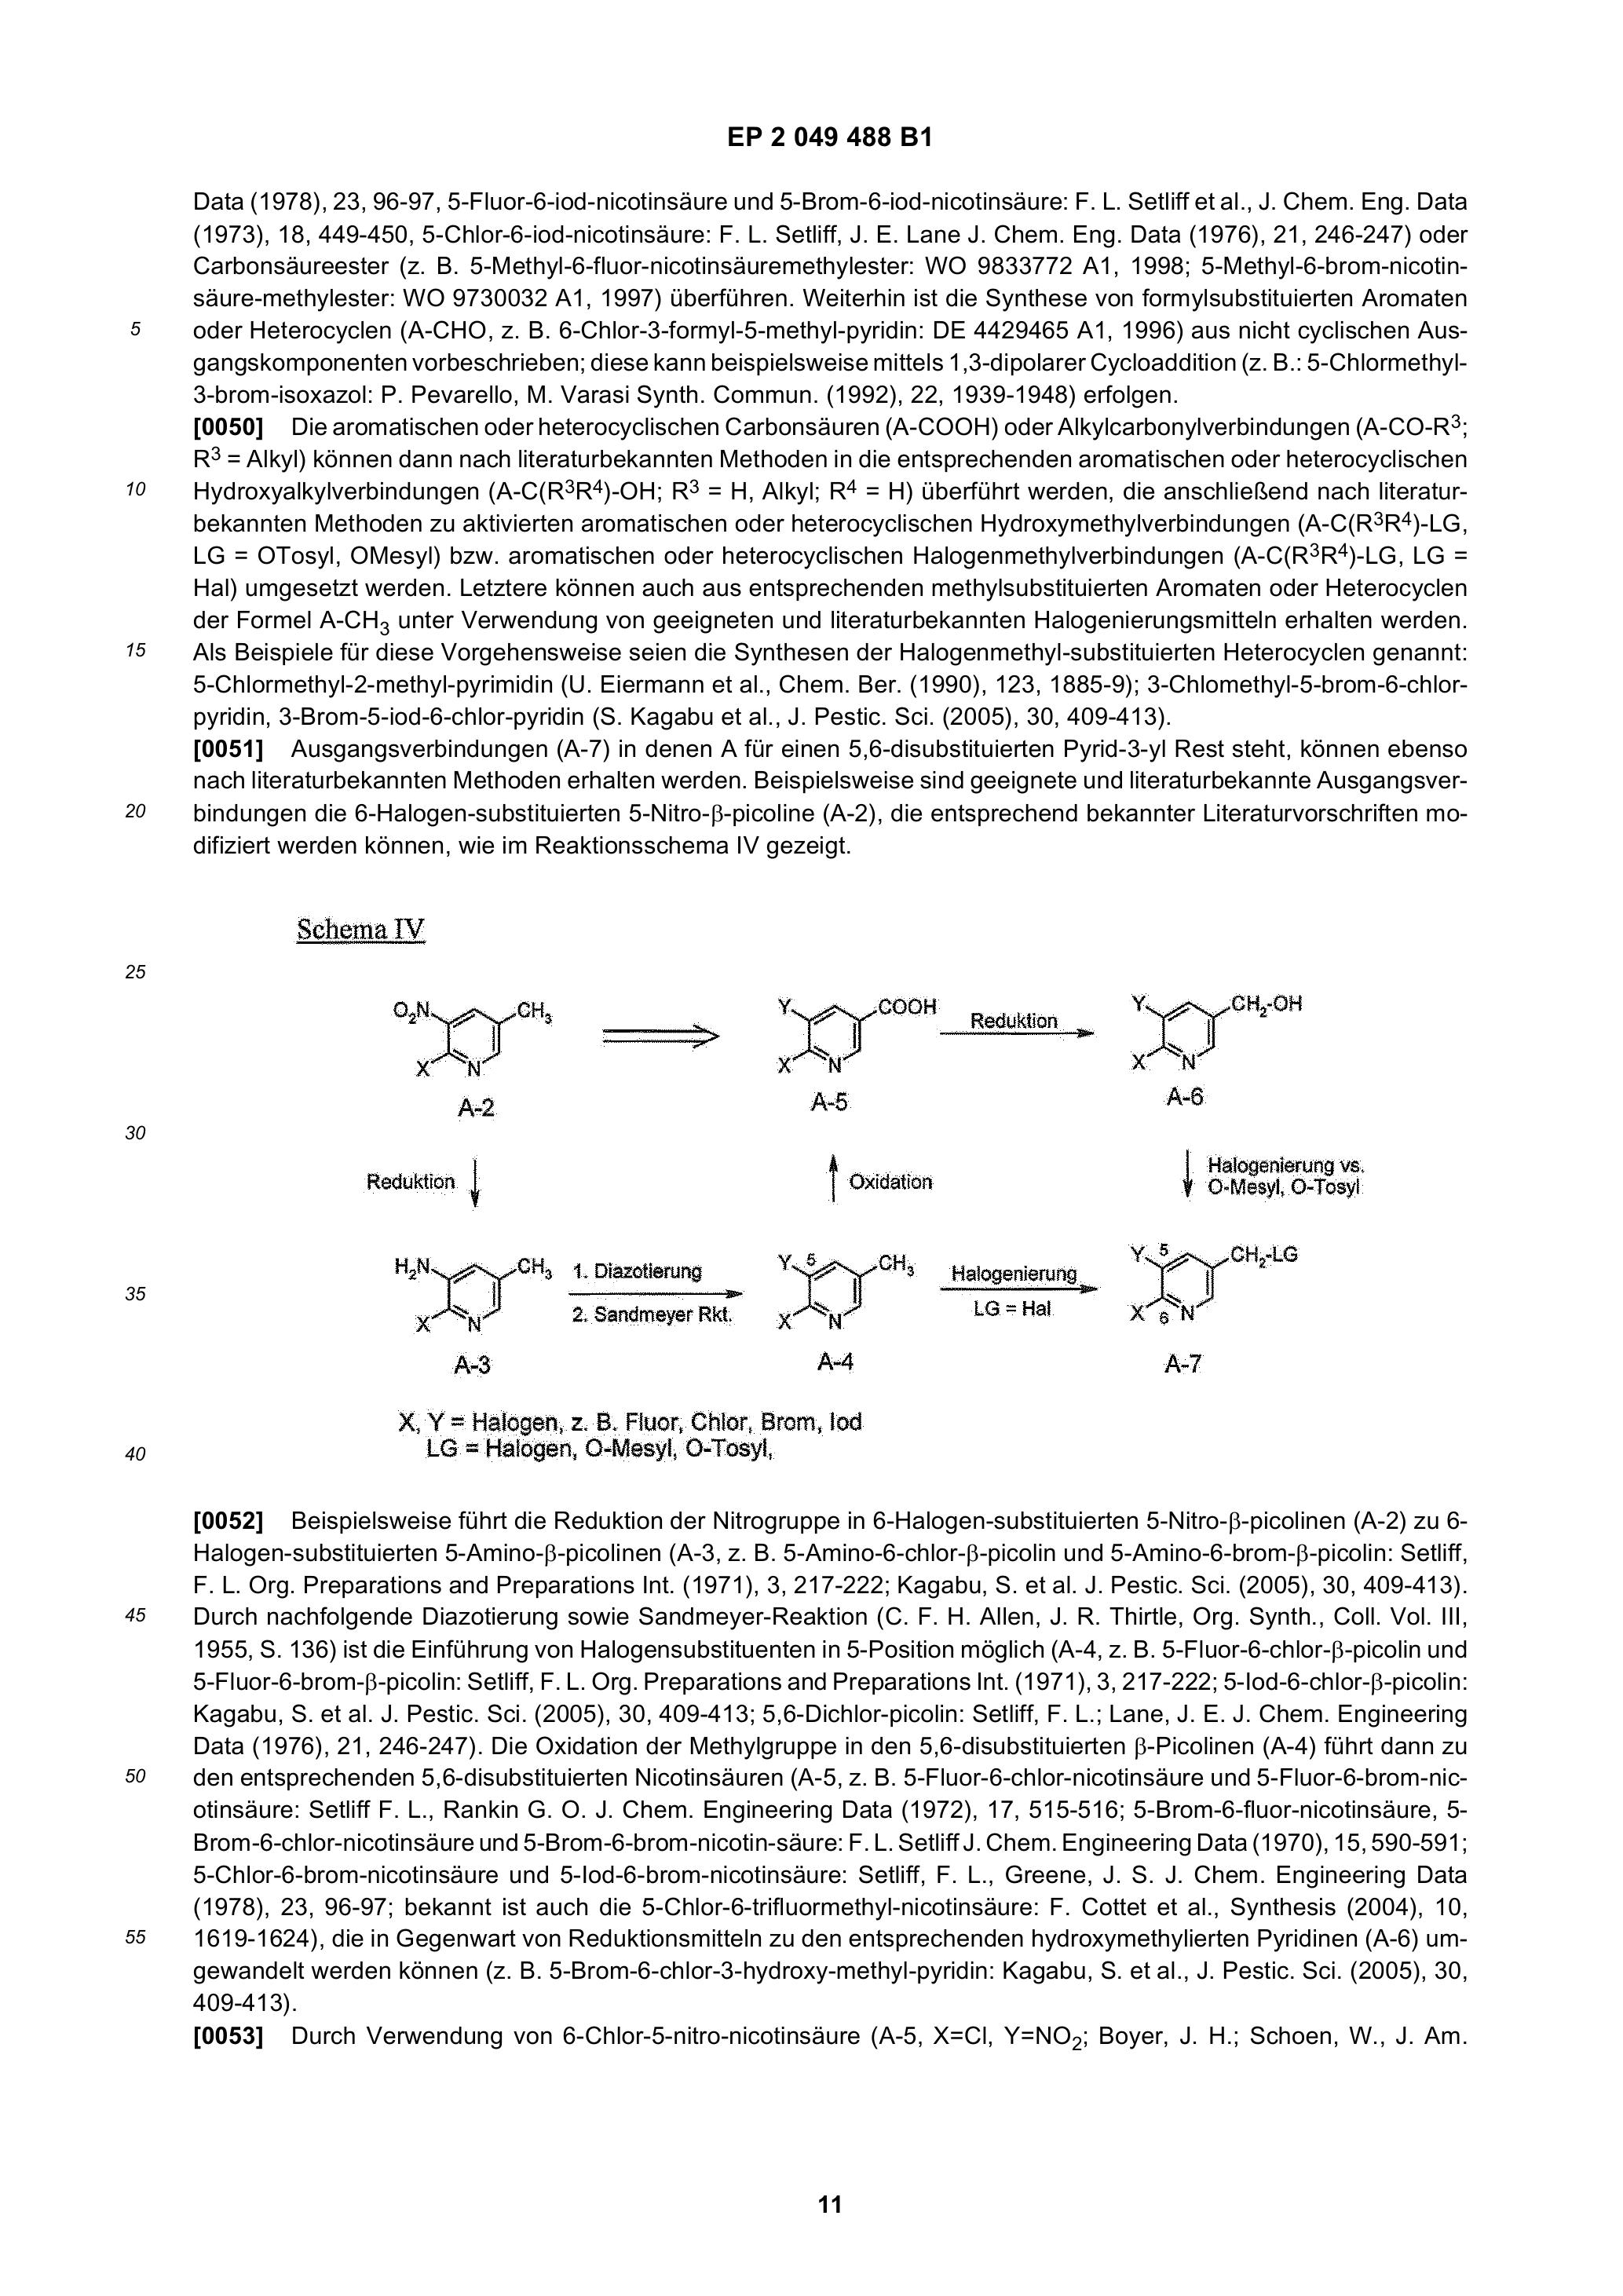reactions: (276, 964, 1451, 1486)
